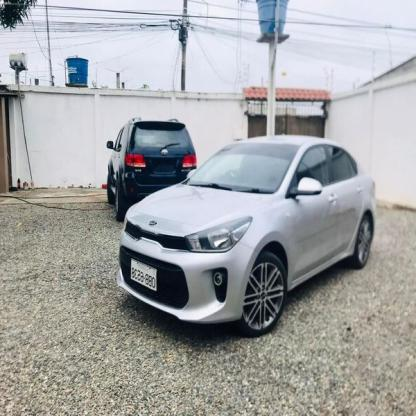Placa: (122, 259, 162, 290)
